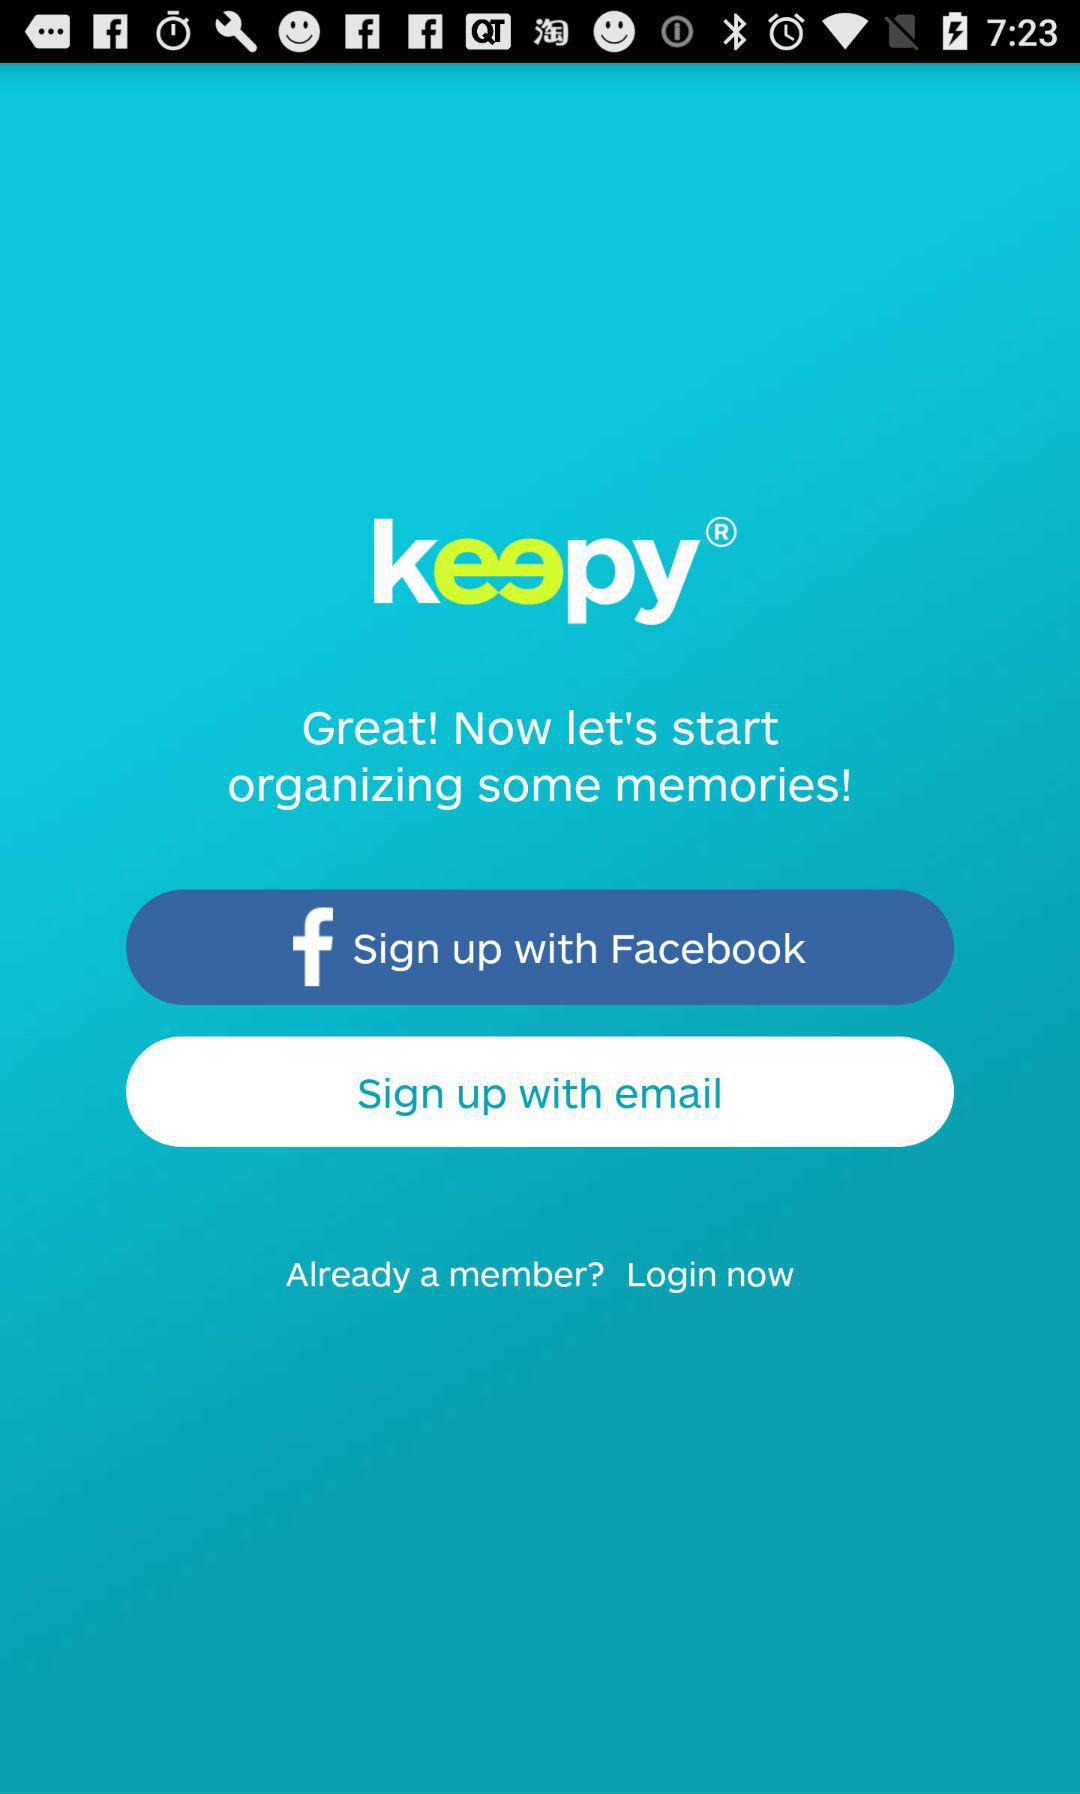Image: (373, 516, 738, 627)
Text: (228, 709, 852, 812), (286, 1258, 794, 1296)
TextButton: (126, 889, 954, 1006), (126, 1035, 954, 1148)
UpperTaskBar: (1, 1, 1080, 64)
